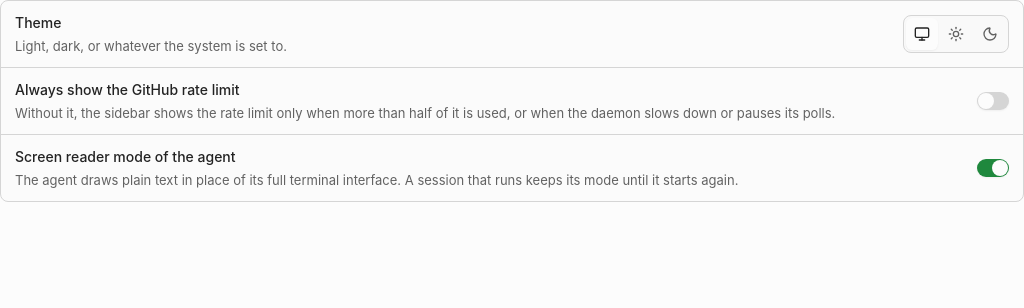
Test case: always showing the rate limit puts the card in the sidebar at once
The width and height of the screenshot is (1024, 308).
Click the switch named "Always show the GitHub rate limit" in the row of "Always show the GitHub rate limit": (993, 101) left=977, top=92, right=1009, bottom=110
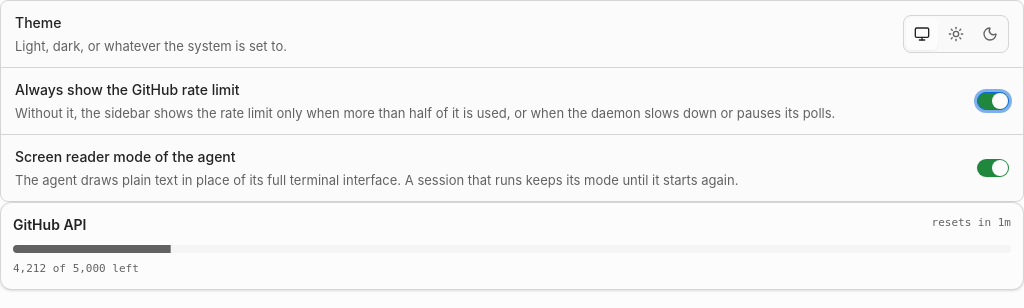
Now the switch named "Always show the GitHub rate limit" in the row of "Always show the GitHub rate limit" is checked, box left=977, top=92, right=1009, bottom=110
Now the element named "GitHub rate limit" is shown, box left=0, top=202, right=1023, bottom=290
